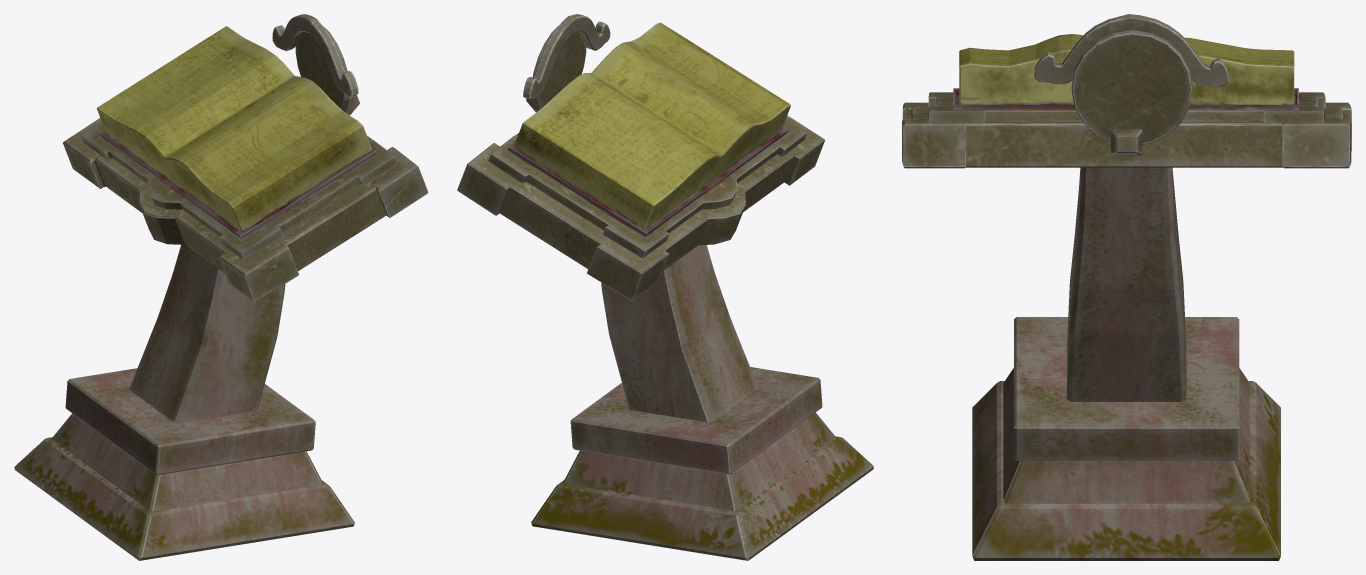
The picture shows the model from 3 angles, left to right: view 1: azimuth 30°, elevation 25°; view 2: azimuth 150°, elevation 25°; view 3: azimuth 270°, elevation 25°; orthographic projection. The views are drawn at different scales.
Parts seen in each view (by area): view 1: The_Baked_Stand_Mesh:polySurface1; view 2: The_Baked_Stand_Mesh:polySurface1; view 3: The_Baked_Stand_Mesh:polySurface1.
Part boxes in pixels (<box>): The_Baked_Stand_Mesh:polySurface1: <box>14,14,428,560</box>; The_Baked_Stand_Mesh:polySurface1: <box>457,14,873,560</box>; The_Baked_Stand_Mesh:polySurface1: <box>902,14,1351,560</box>.
Size of the model in its own units: 0.9444 by 1.47 by 1.07.
1 material, 1 textured.
